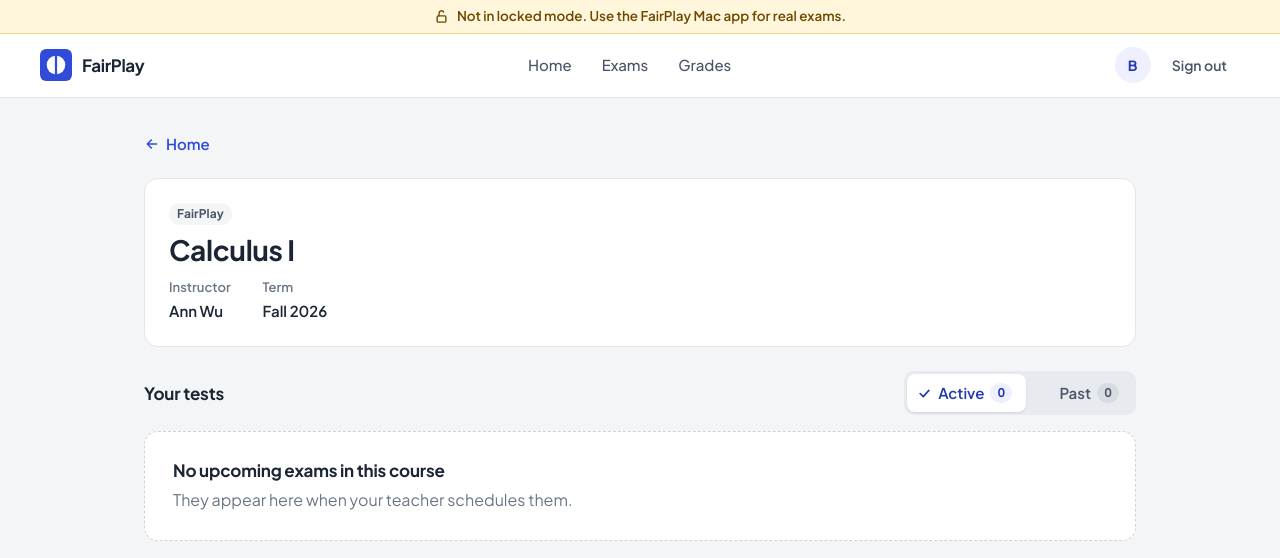
Test: course page › friendly empty states on both tabs
Expected: the header with test id "course-head" shows "FairPlay", [177,206,224,221]
Click the tab "Past 0" at (1081, 393), box [1028,374,1133,412]
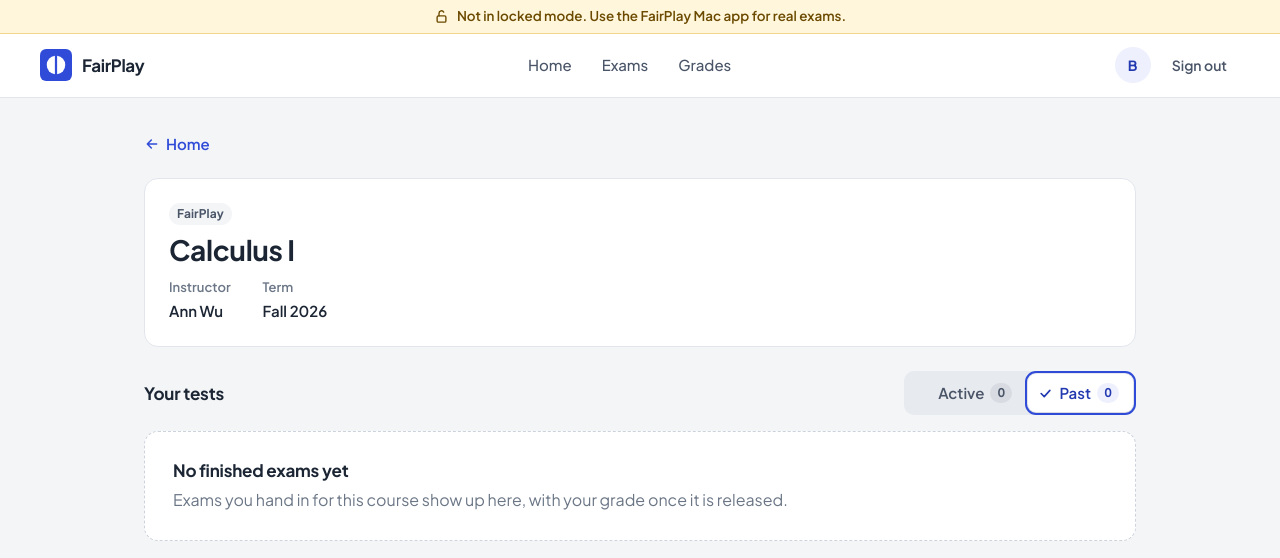
Result: the element with test id "tests-empty" shows "No finished exams yet" at [173,459,349,481]
